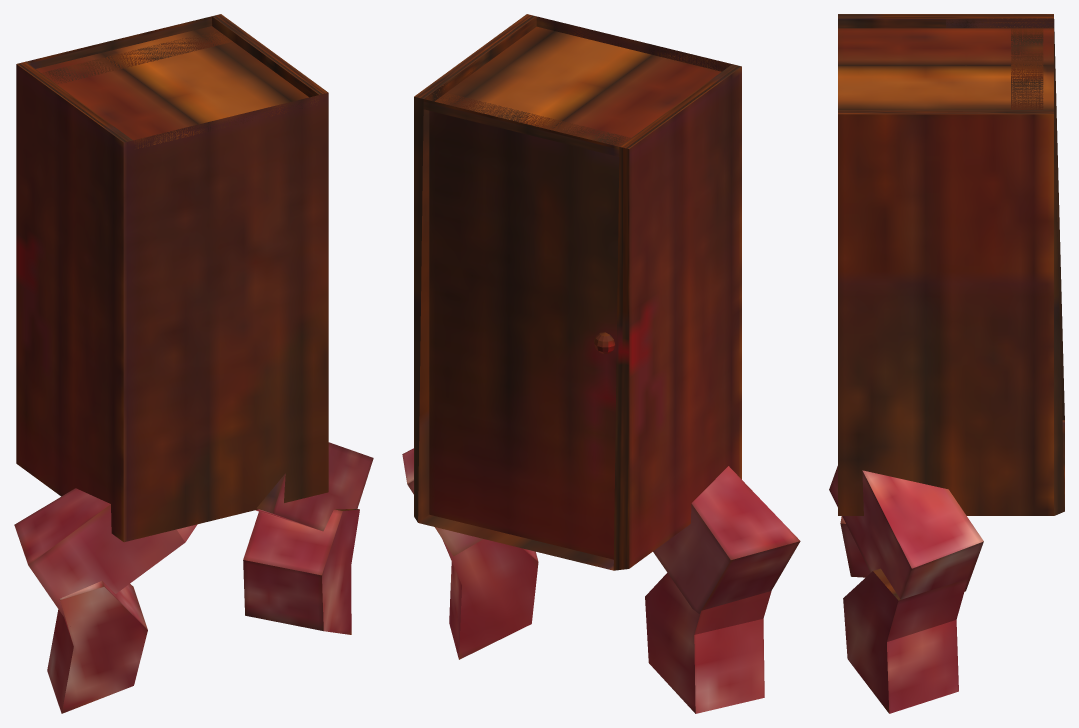
File: mostro1FINAL.fbx
3 views of the same model, side by side, from view 1: azimuth 30°, elevation 25°; view 2: azimuth 150°, elevation 25°; view 3: azimuth 270°, elevation 25° (orthographic). The views are drawn at different scales.
Parts seen in each view (by area): view 1: cube_5, cube_3, cube, cube_1, cube_2, puerta; view 2: cube_5, puerta, cube, cube_1, cube_3, cube_2; view 3: cube_5, cube_3, cube_2, puerta, cube_1.
Boxes of the visible parts, x1,y1,x2,y2 form: cube_5: [16, 14, 328, 542]; cube_3: [243, 509, 359, 634]; cube: [14, 488, 197, 626]; cube_1: [47, 581, 147, 713]; cube_2: [256, 442, 373, 531]; puerta: [41, 31, 232, 84]; cube_5: [414, 14, 741, 570]; puerta: [429, 93, 630, 559]; cube: [653, 466, 800, 613]; cube_1: [645, 573, 771, 713]; cube_3: [442, 539, 538, 659]; cube_2: [402, 448, 482, 556]; cube_5: [838, 14, 1064, 515]; cube_3: [843, 568, 967, 713]; cube_2: [829, 466, 983, 599]; puerta: [1011, 28, 1043, 109]; cube_1: [840, 516, 870, 577].
Size of the model in its own units: 24.32 by 36.93 by 13.64.
Materials: 1 (1 with a texture image).
